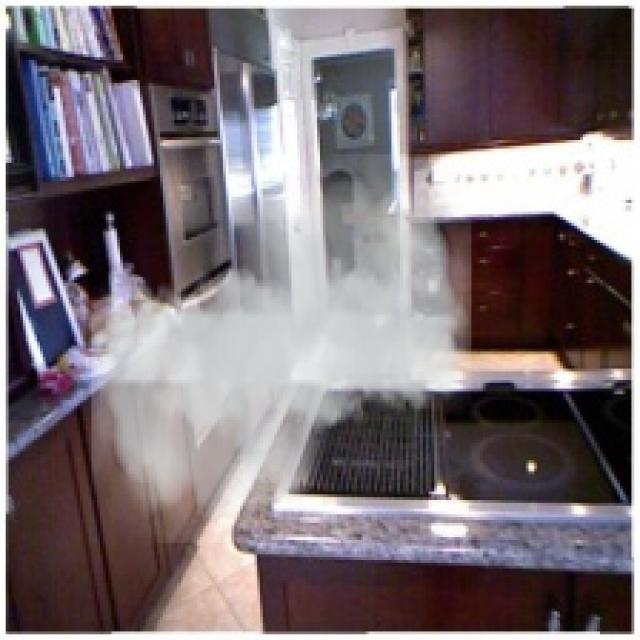smoke: (91, 154, 472, 543)
